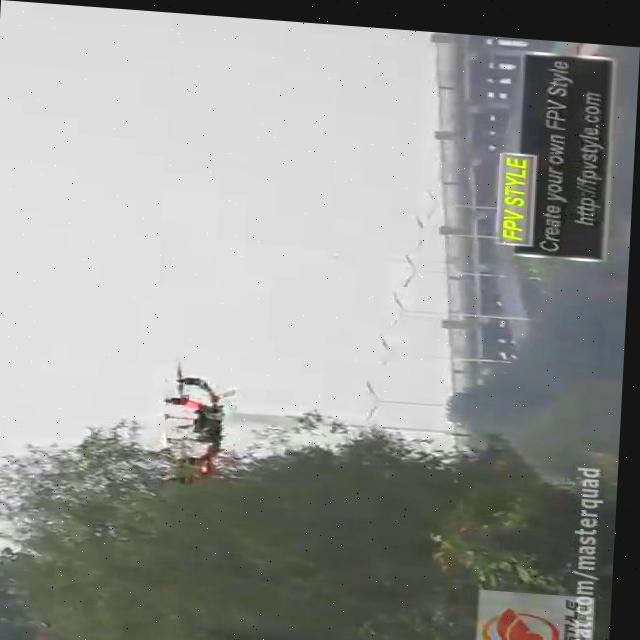drone: (152, 355, 242, 492)
